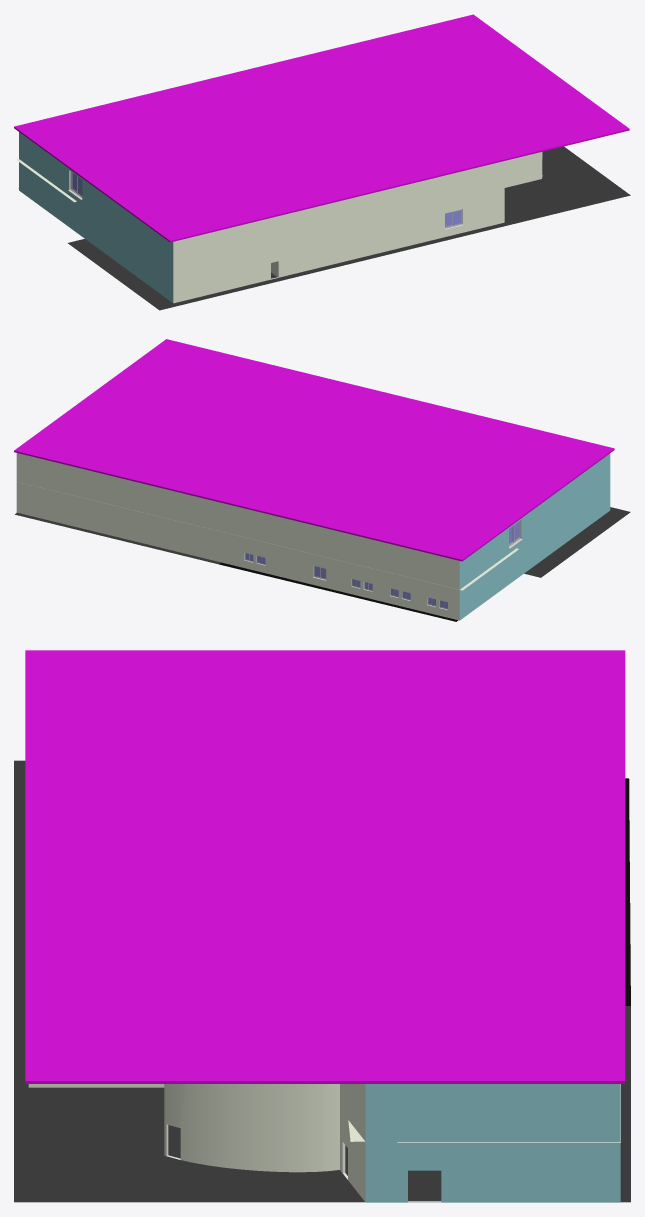
The model's file is laval-virtuel.fbx.
3 views of the same model, one above another, from view 1: azimuth 30°, elevation 25°; view 2: azimuth 150°, elevation 25°; view 3: azimuth 270°, elevation 25° (orthographic). The views are drawn at different scales.
Visible parts, largest first — view 1: plafond, 1ere_etage, Sol; view 2: plafond, 1ere_etage, Sol; view 3: plafond, 1ere_etage, Sol.
Boxes of the visible parts, left/top/right/bottom form: plafond: left=14, top=14, right=629, bottom=242; 1ere_etage: left=19, top=132, right=542, bottom=303; Sol: left=18, top=146, right=630, bottom=310; plafond: left=14, top=339, right=614, bottom=561; 1ere_etage: left=16, top=453, right=610, bottom=620; Sol: left=15, top=507, right=630, bottom=621; plafond: left=25, top=650, right=625, bottom=1083; 1ere_etage: left=28, top=1084, right=620, bottom=1202; Sol: left=14, top=760, right=630, bottom=1202.
Bounding box in the file's own units: 6284 × 813 × 3696.
